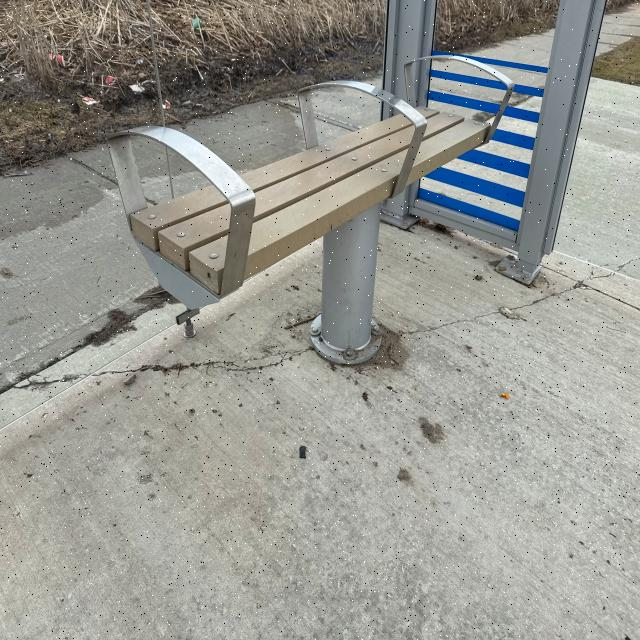Bench: (102, 37, 525, 376)
